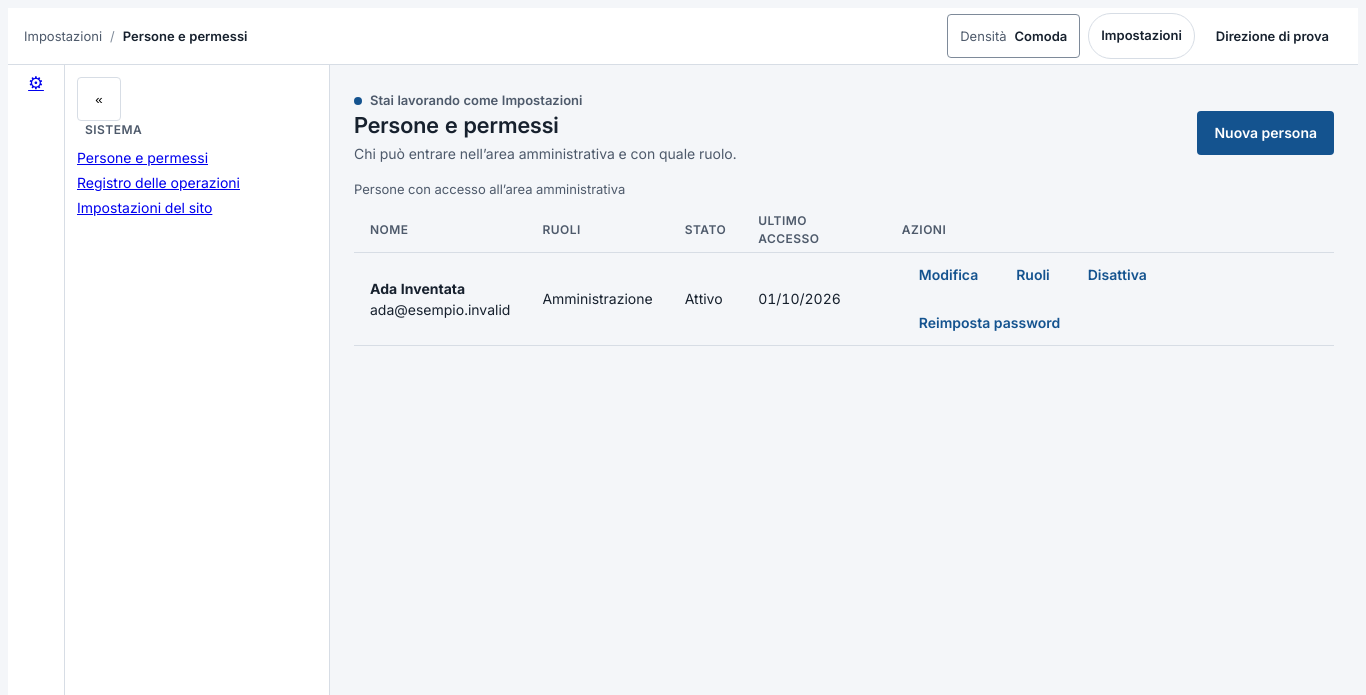
Test: persone e permessi › mostra in italiano l’errore 409 di email già usata
Check: the text "Ada Inventata" is shown, box [370, 280, 465, 297]
Click the button "Nuova persona": (1266, 133) [1198, 111, 1334, 155]
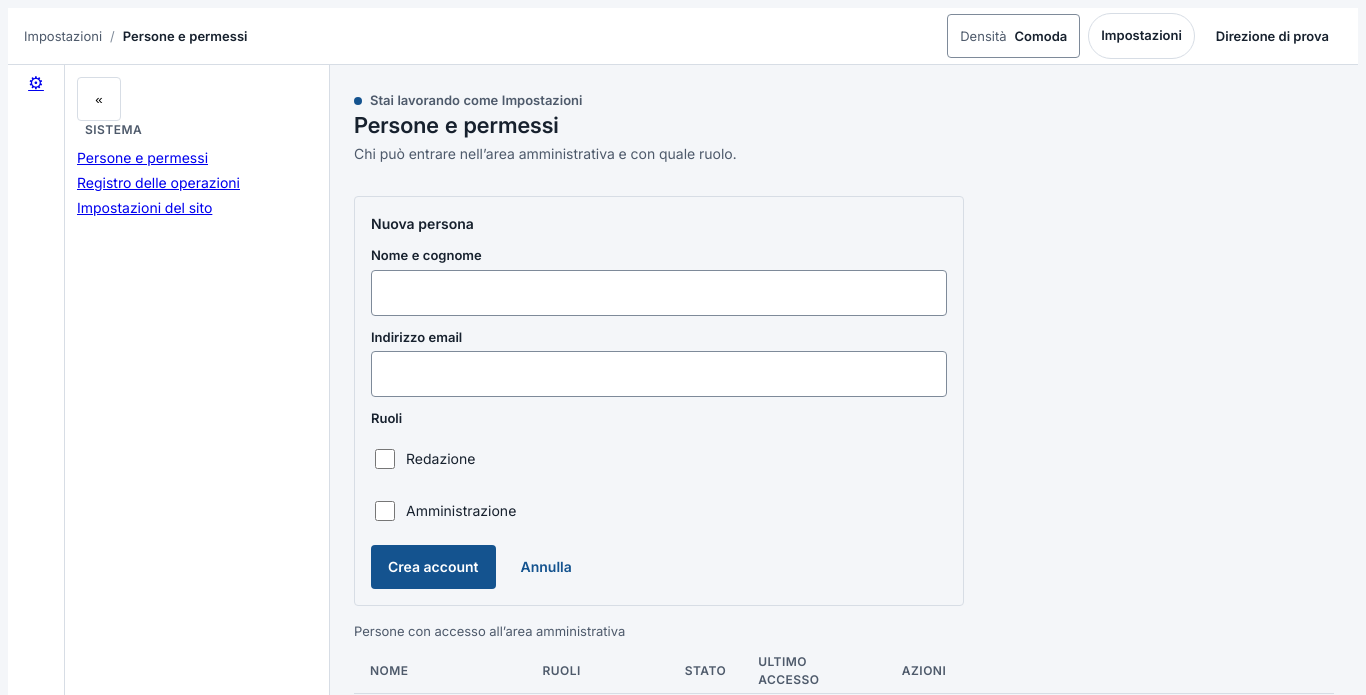
In the field labelled "Nome e cognome": (659, 293) [371, 270, 947, 316], type "Doppione"
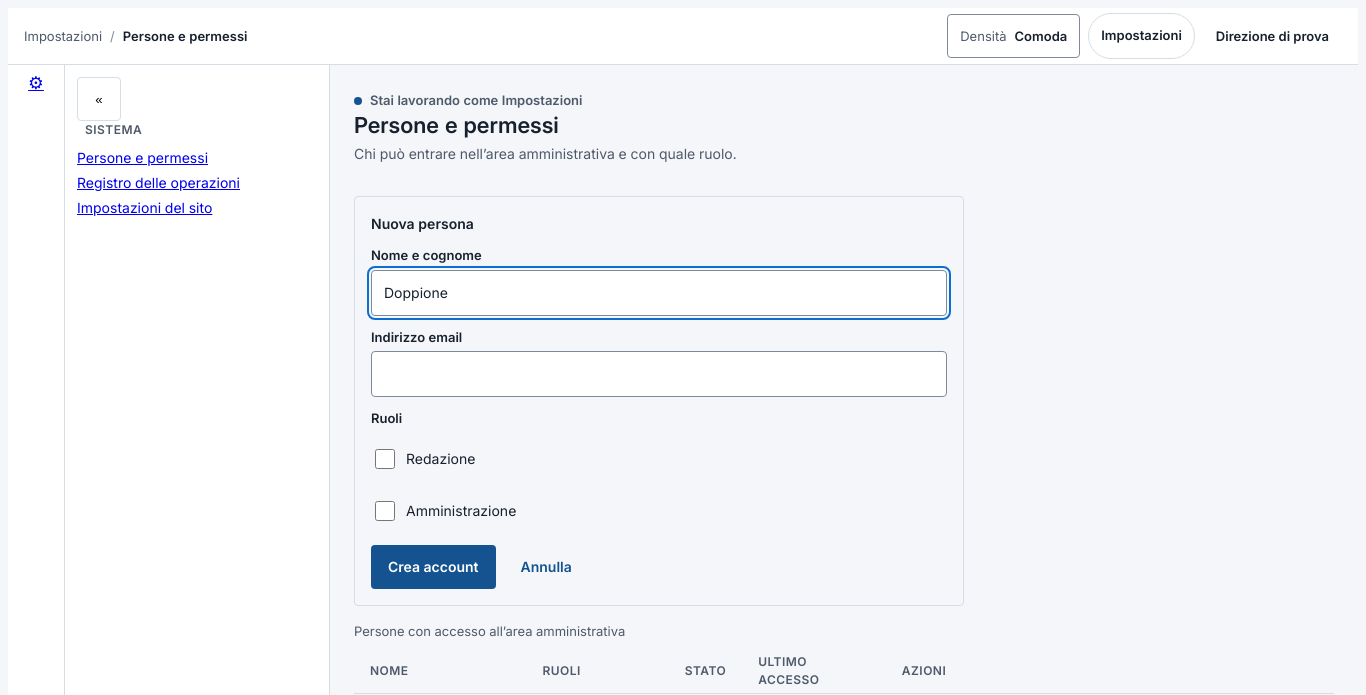
In the field labelled "Indirizzo email": (659, 374) [371, 351, 947, 397], type "ada@esempio.invalid"
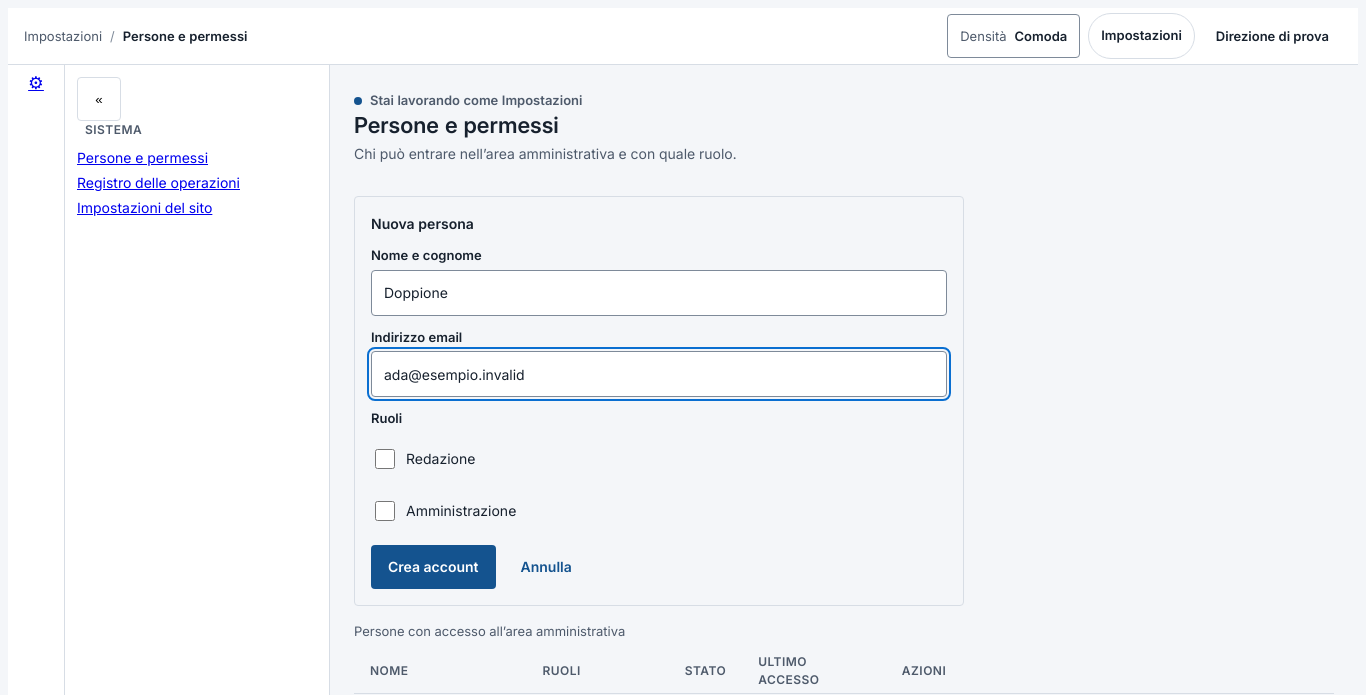
Click the checkbox labelled "Amministrazione": (385, 511) [375, 501, 395, 521]
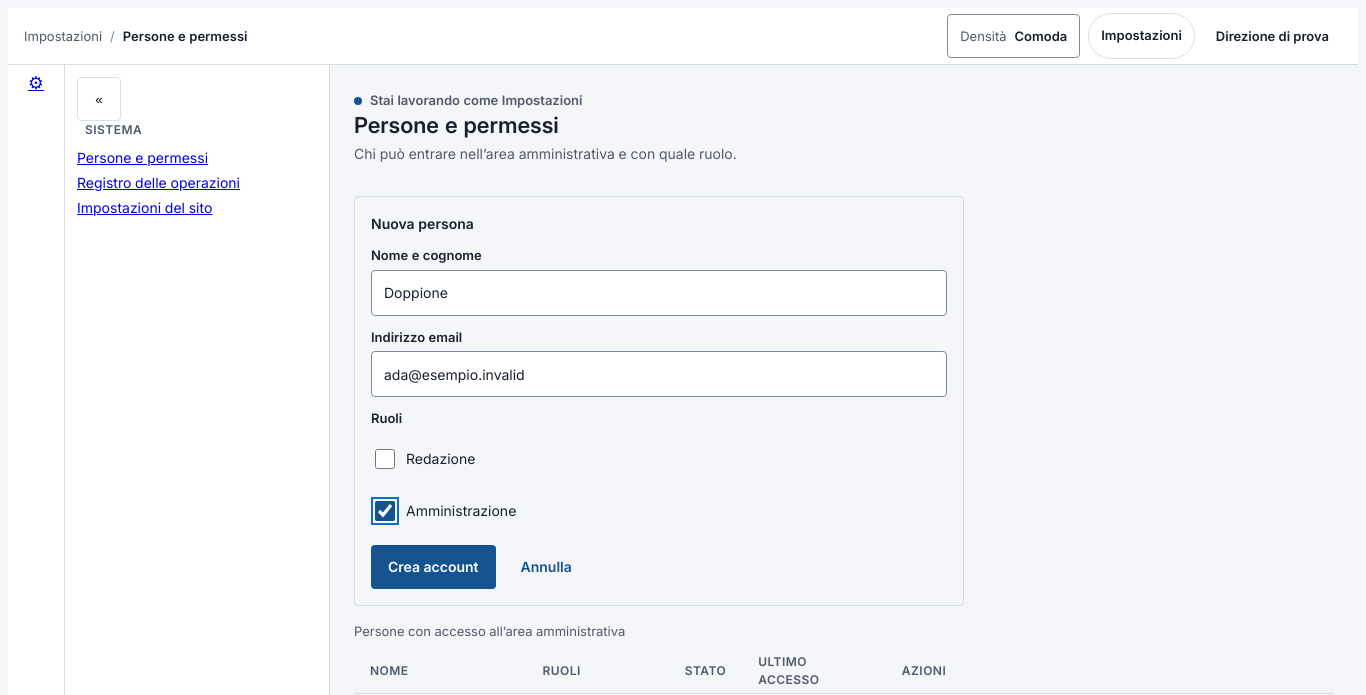
Click the button "Crea account": (433, 567) [371, 545, 496, 589]
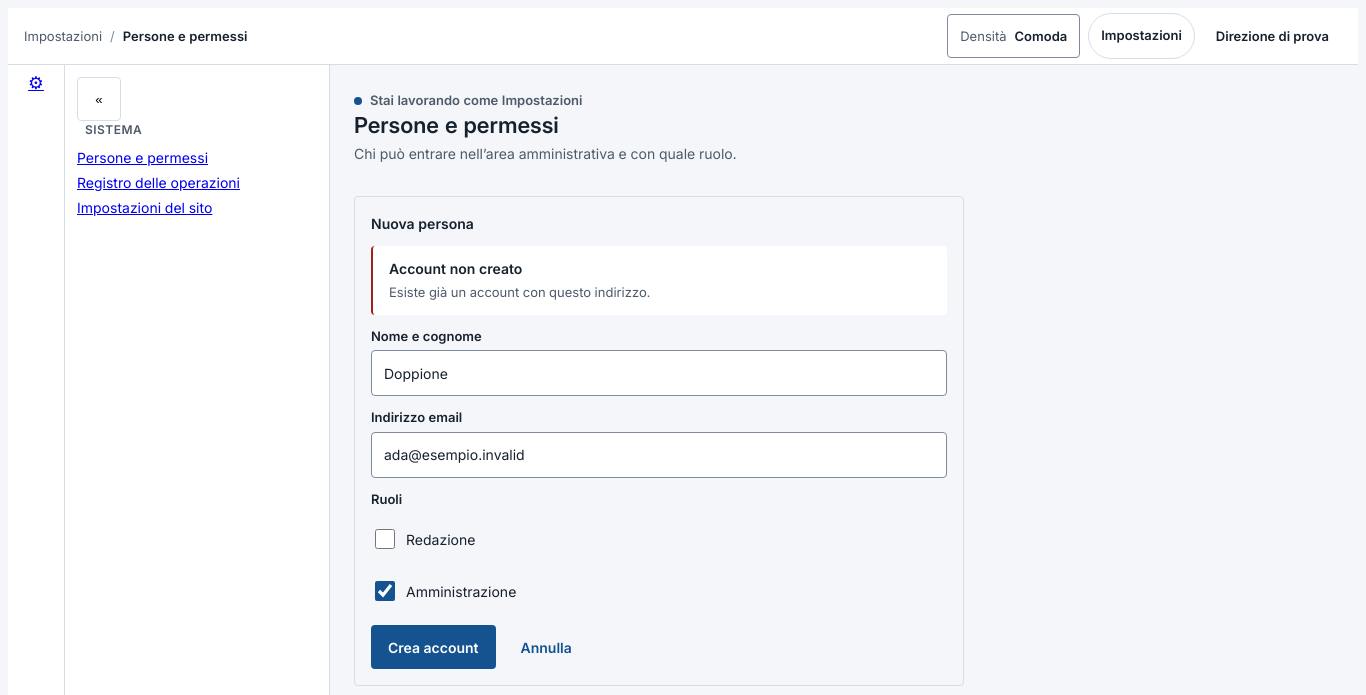
Check: the text "Esiste già un account con questo indirizzo." is shown, box [389, 284, 650, 300]
